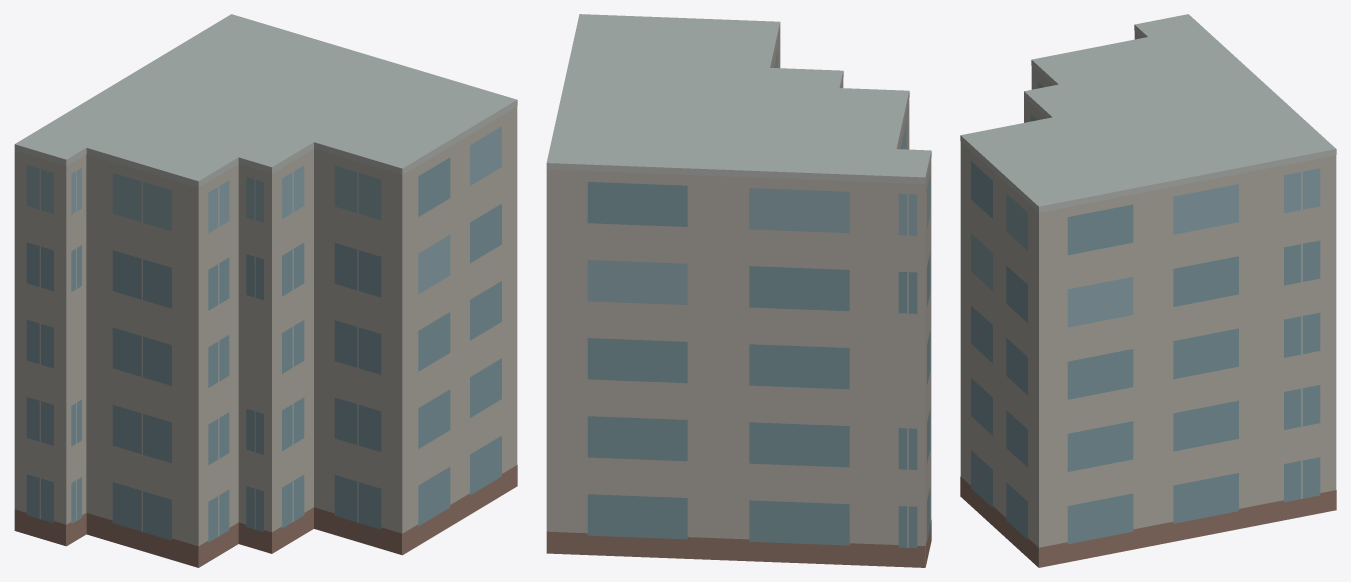
File: survey-upis-32754949.glb
3 renders of one model, left to right at view 1: azimuth 30°, elevation 25°; view 2: azimuth 150°, elevation 25°; view 3: azimuth 270°, elevation 25°, orthographic. The views are drawn at different scales.
Visible parts, largest first — view 1: survey-upis-32754949.tmp; view 2: survey-upis-32754949.tmp; view 3: survey-upis-32754949.tmp.
Boxes of the visible parts, x1=… form: survey-upis-32754949.tmp: x1=14, y1=14, x2=517, y2=567; survey-upis-32754949.tmp: x1=546, y1=14, x2=931, y2=567; survey-upis-32754949.tmp: x1=960, y1=14, x2=1336, y2=567.
Size of the model in its own units: 16.72 by 14.6 by 13.78.
